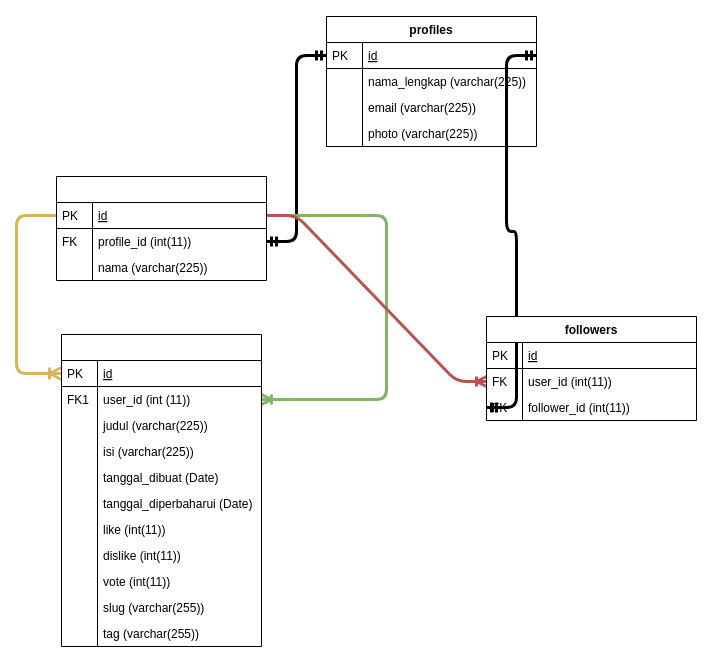
Some shapes in this 713 by 663 pixel diagram are drawn without their labels. The box of each missing label's shape, as (x1, y1, x2, y2) in pixels:
articles: (60, 334, 262, 646)
users: (56, 176, 266, 280)
